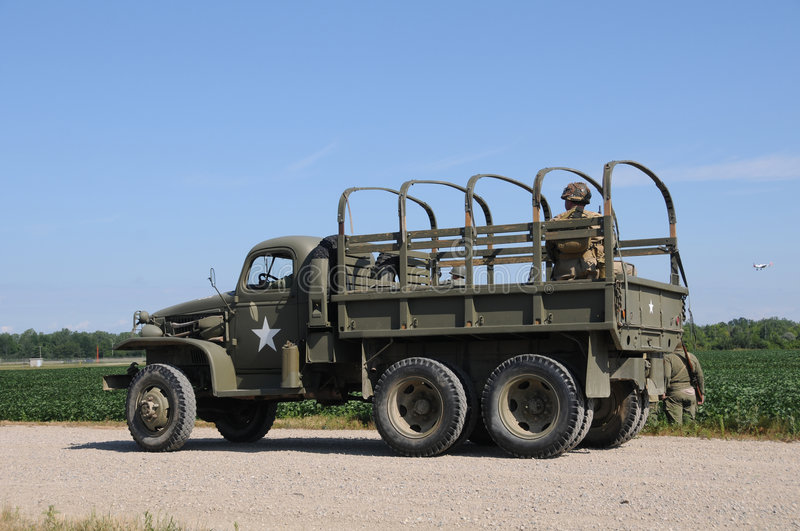camion: (107, 208, 692, 460)
